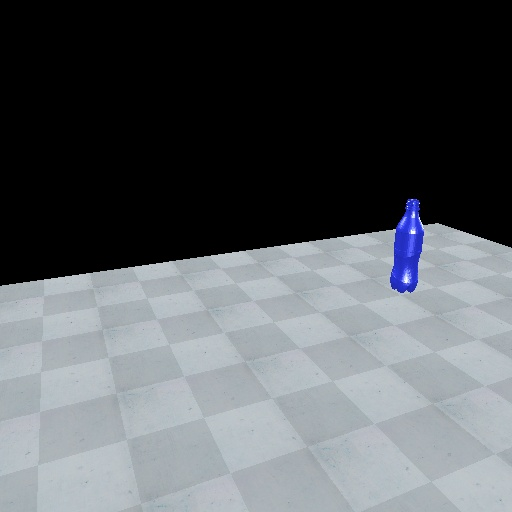bottle: (387, 197, 427, 296)
